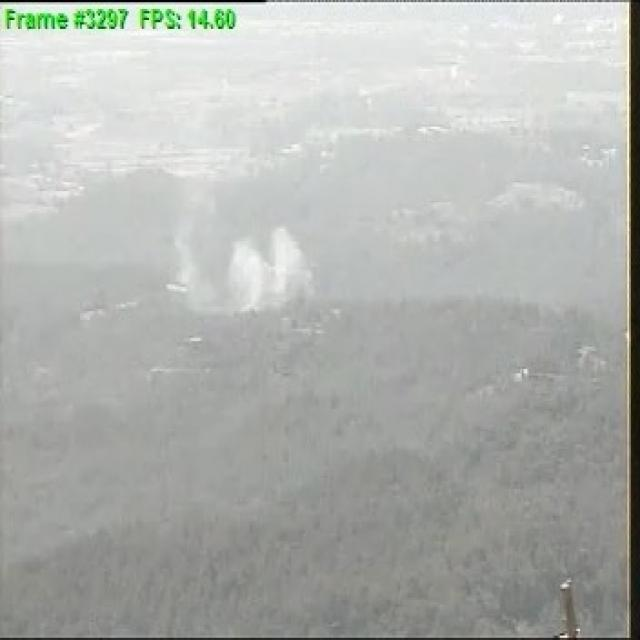smoke: (176, 230, 316, 312)
